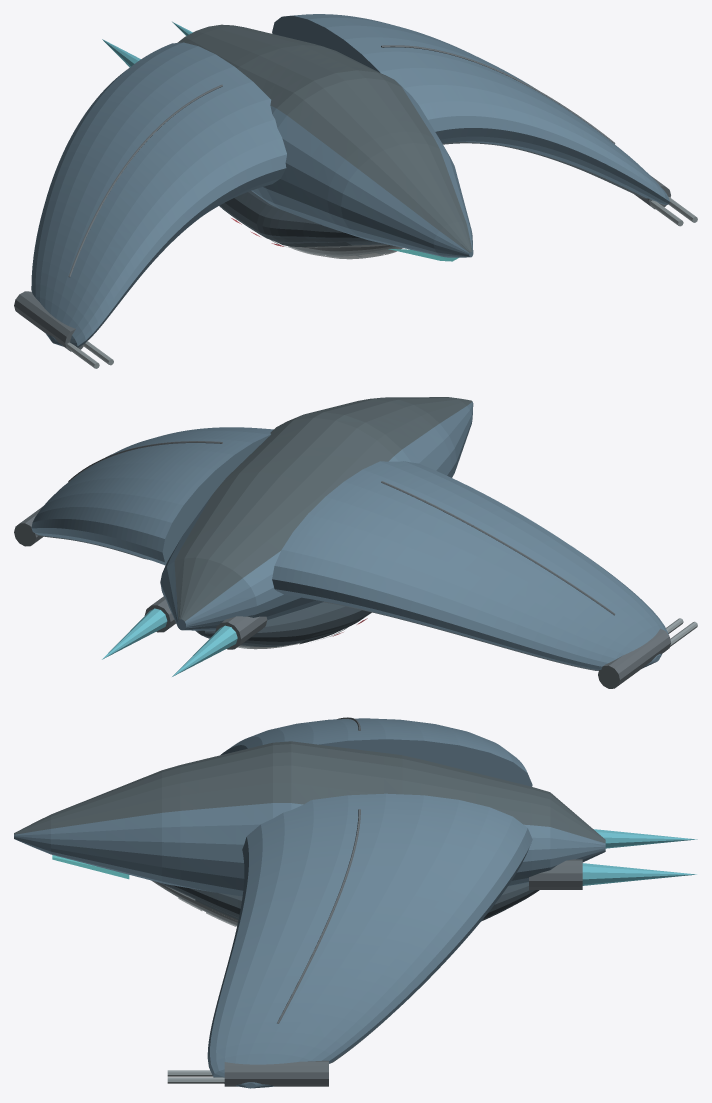
Rendered from ambwe_blue_flight.glb.
The picture shows the model from 3 angles, top to bottom: view 1: azimuth 30°, elevation 25°; view 2: azimuth 150°, elevation 25°; view 3: azimuth 270°, elevation 25°; orthographic projection. The views are drawn at different scales.
Parts seen in each view (by area): view 1: material_0, material_1, material_2, material_9, material_11, material_3, material_5; view 2: material_0, material_1, material_9, material_2, material_12, material_10; view 3: material_0, material_1, material_9, material_12, material_2, material_11.
Part boxes in pixels (left/top/right/bottom): material_0: left=31, top=14, right=669, bottom=347; material_1: left=177, top=24, right=472, bottom=252; material_2: left=220, top=191, right=386, bottom=245; material_9: left=14, top=45, right=670, bottom=351; material_11: left=66, top=197, right=697, bottom=368; material_3: left=291, top=244, right=403, bottom=257; material_5: left=219, top=205, right=351, bottom=246; material_0: left=31, top=402, right=668, bottom=670; material_1: left=174, top=397, right=472, bottom=621; material_9: left=14, top=441, right=670, bottom=688; material_2: left=195, top=602, right=370, bottom=646; material_12: left=102, top=608, right=237, bottom=676; material_10: left=35, top=534, right=598, bottom=670; material_0: left=14, top=718, right=605, bottom=1088; material_1: left=14, top=741, right=605, bottom=843; material_9: left=224, top=717, right=582, bottom=1086; material_12: left=582, top=829, right=697, bottom=885; material_2: left=155, top=881, right=539, bottom=921; material_11: left=167, top=1070, right=224, bottom=1083.
Size of the model in its own units: 4.65 by 1.35 by 4.45.
